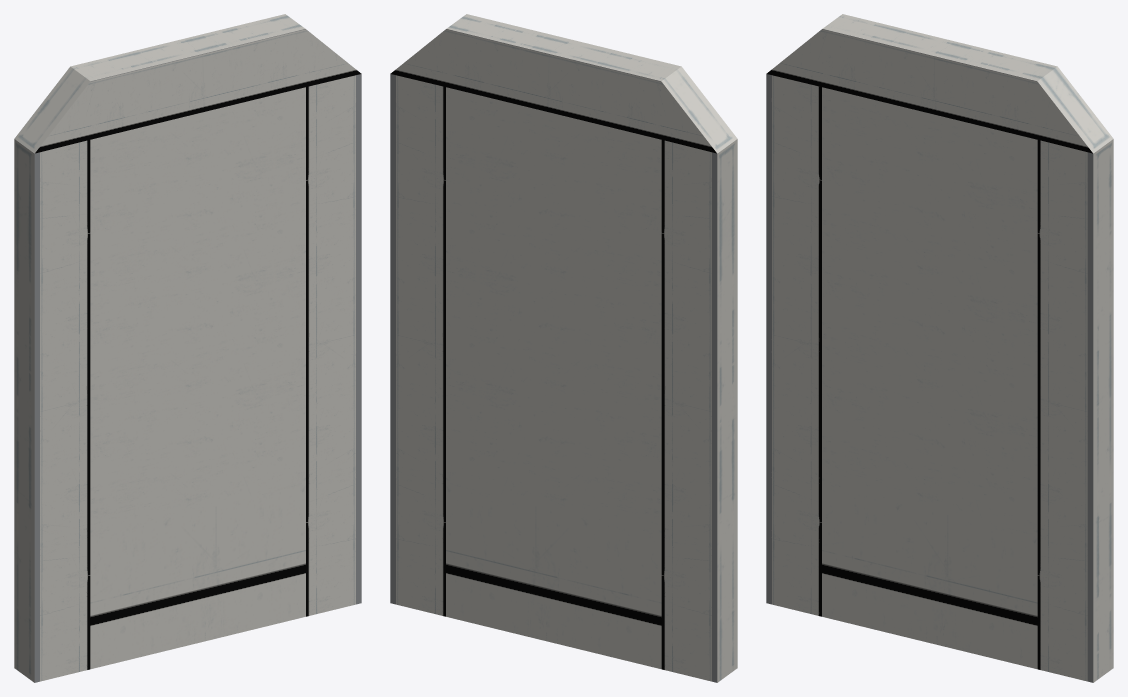
File: G_Env_Arch_Door_02_Plain.fbx
The picture shows the model from 3 angles, left to right: view 1: azimuth 30°, elevation 25°; view 2: azimuth 150°, elevation 25°; view 3: azimuth 330°, elevation 25°; orthographic projection.
Parts seen in each view (by area): view 1: G_Env_Arch_Door_02_Plain; view 2: G_Env_Arch_Door_02_Plain; view 3: G_Env_Arch_Door_02_Plain.
Boxes of the visible parts, x1,y1,x2,y2 form: G_Env_Arch_Door_02_Plain: (14,14,361,682); G_Env_Arch_Door_02_Plain: (390,14,737,682); G_Env_Arch_Door_02_Plain: (766,14,1113,682).
Bounding box in the file's own units: 398 × 683 × 42.79.
